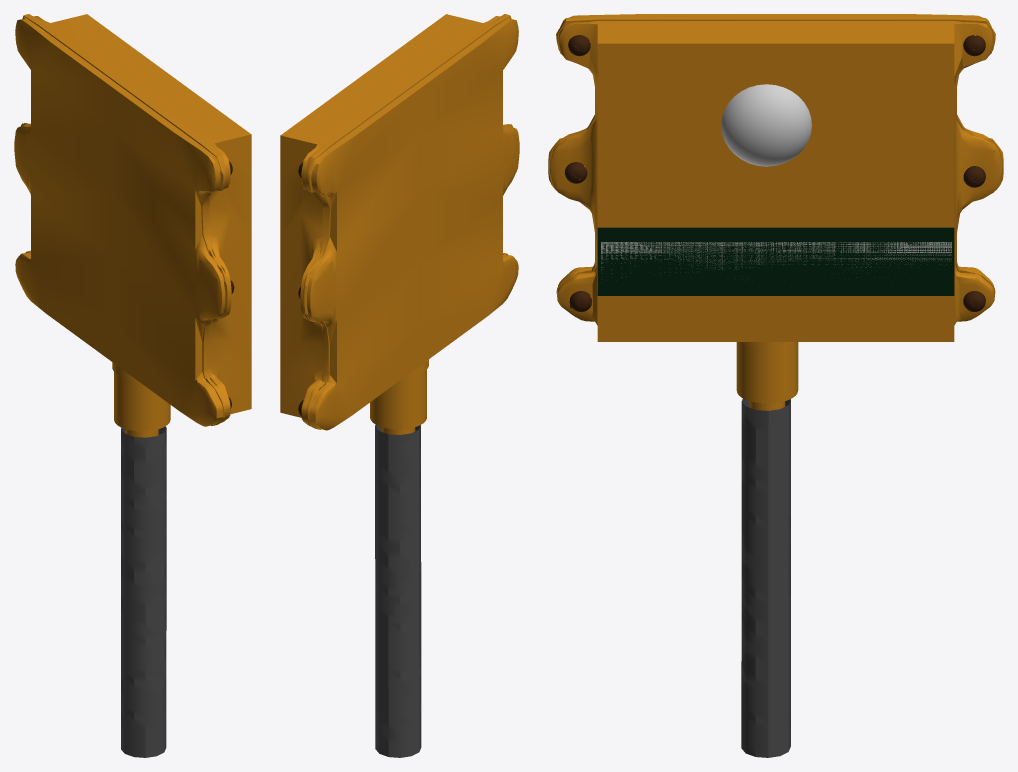
The model's file is illumination sensor.obj.
3 views of the same model, side by side, from view 1: azimuth 30°, elevation 25°; view 2: azimuth 150°, elevation 25°; view 3: azimuth 270°, elevation 25° (orthographic). The views are drawn at different scales.
Parts seen in each view (by area): view 1: illumination_sensor; view 2: illumination_sensor; view 3: illumination_sensor.
Boxes of the visible parts, bbox=[...] form: illumination_sensor: bbox=[14, 14, 251, 757]; illumination_sensor: bbox=[280, 14, 519, 757]; illumination_sensor: bbox=[548, 14, 1003, 757].
Bounding box in the file's own units: 0.1174 × 0.9622 × 0.5507.
